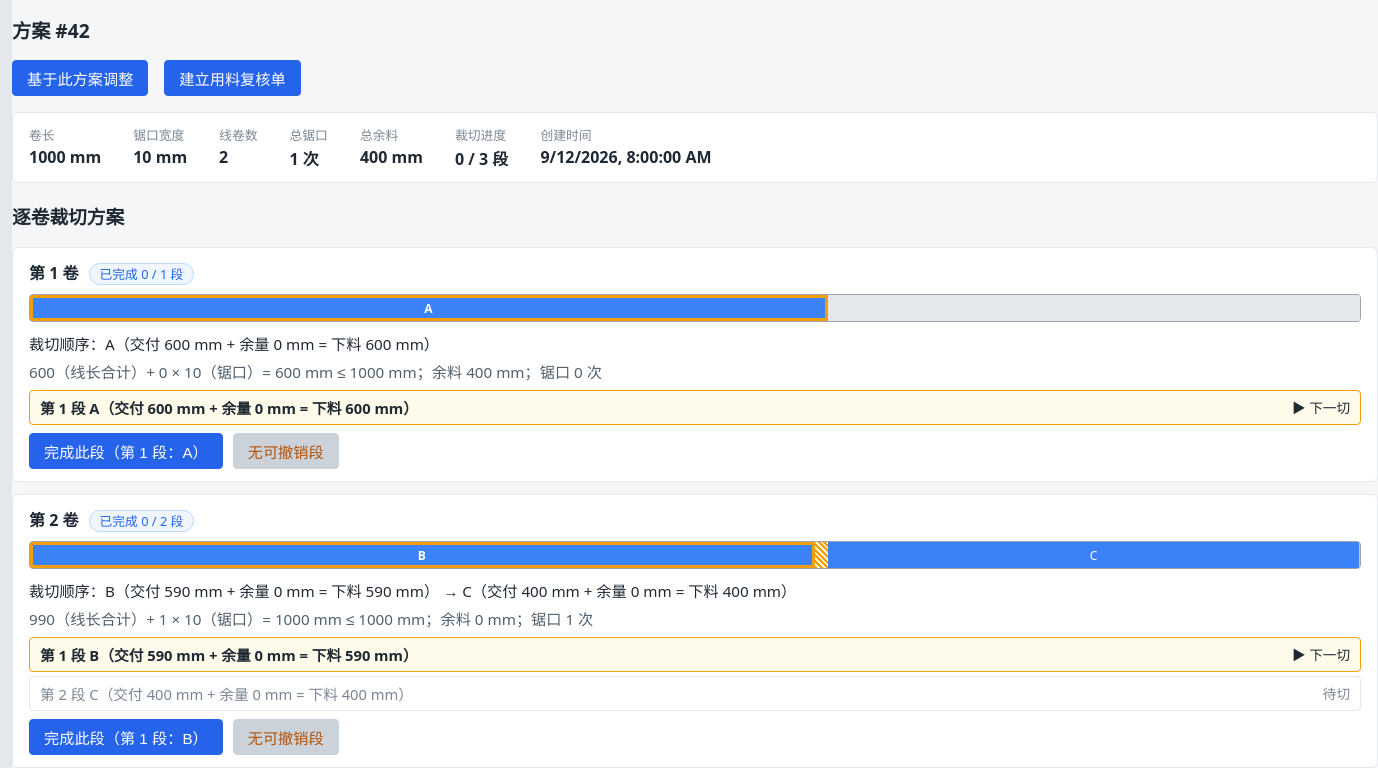
Test case: PlanDetailPage progress flow › completes two cuts in order using the server response as truth
The width and height of the screenshot is (1378, 768).
Expected: the text with test id "overall-progress" reads "0 / 3 段", [455, 146, 508, 170]
Click the button with test id "complete-roll-2" at (126, 737), box [29, 719, 223, 755]
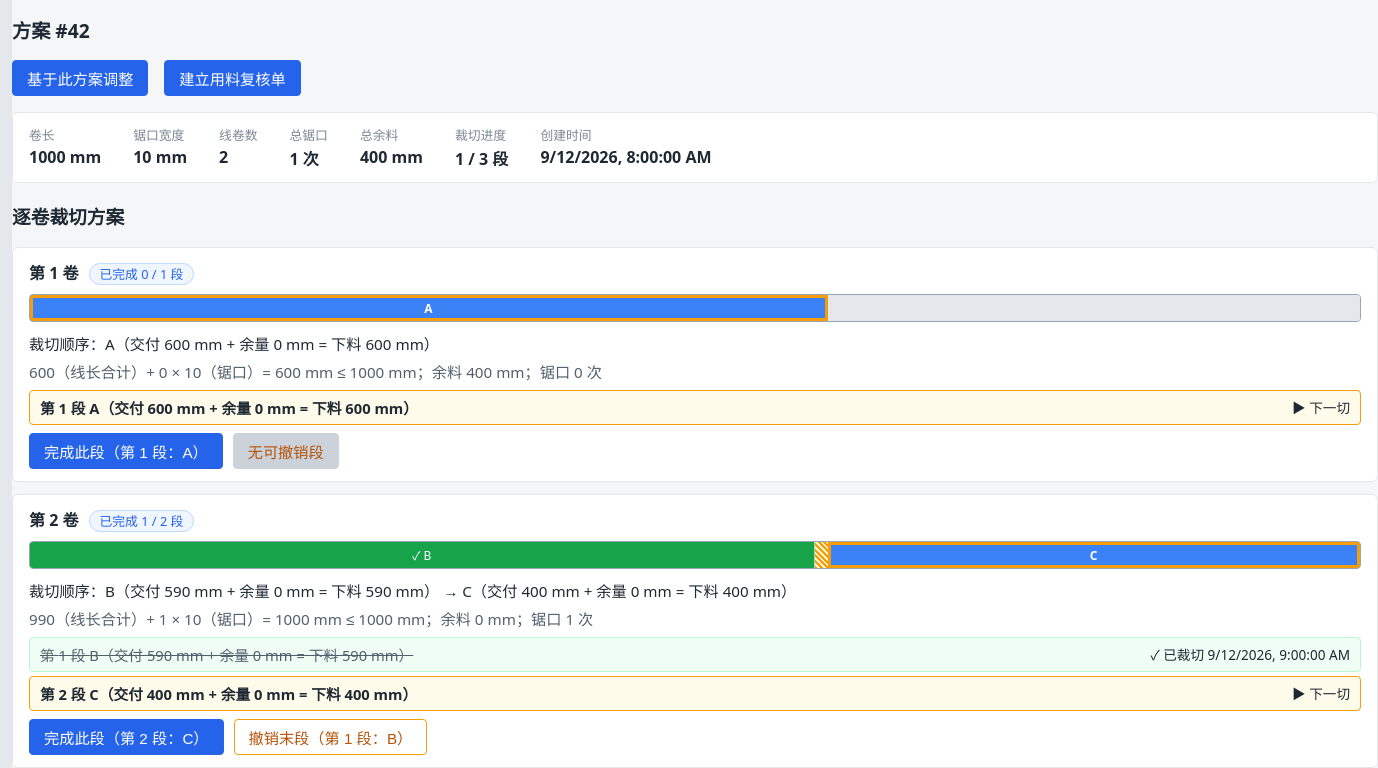
Expected: the text with test id "overall-progress" reads "1 / 3 段", [455, 146, 508, 170]
the next cut offered on roll 2 is now C (position 2)
Click the button with test id "complete-roll-2" at (126, 737), box [29, 719, 224, 755]
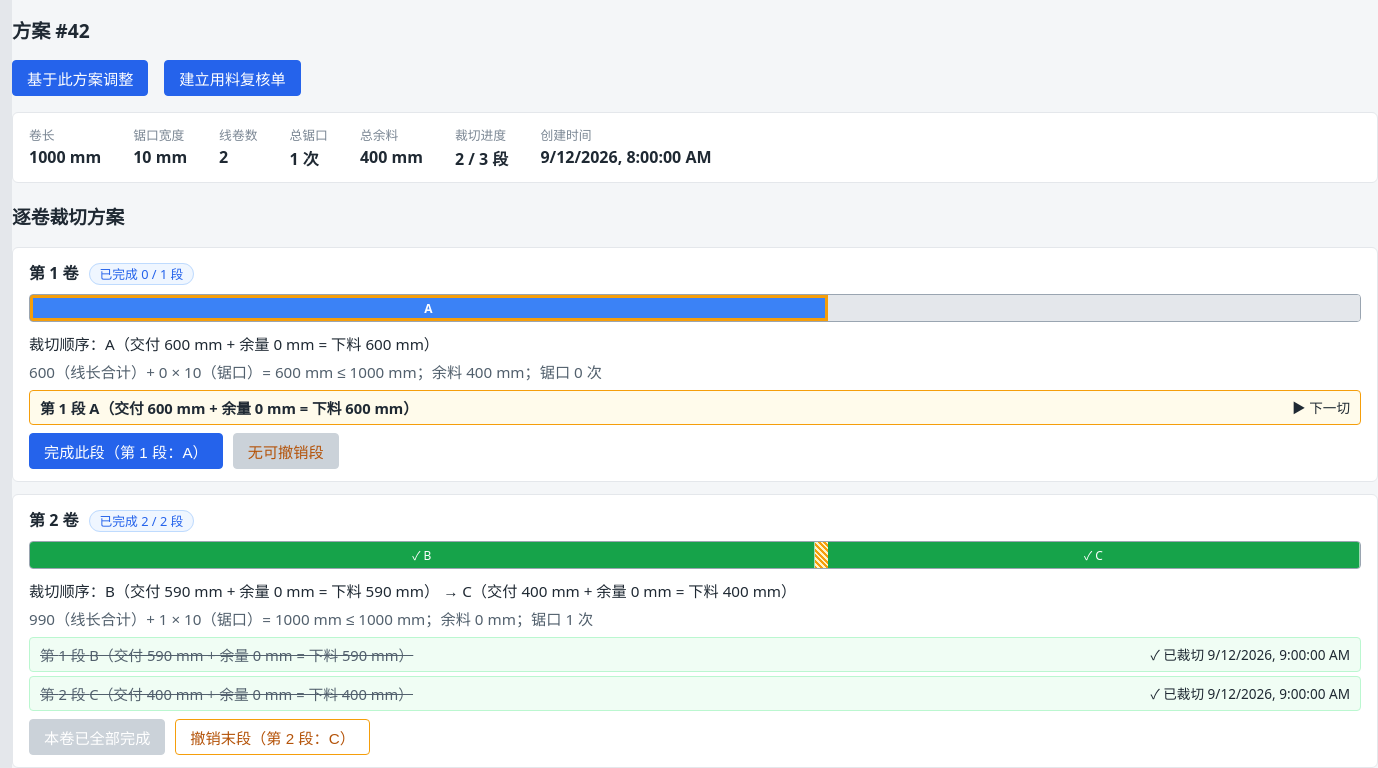
Expected: the text with test id "overall-progress" reads "2 / 3 段", [455, 146, 508, 170]
